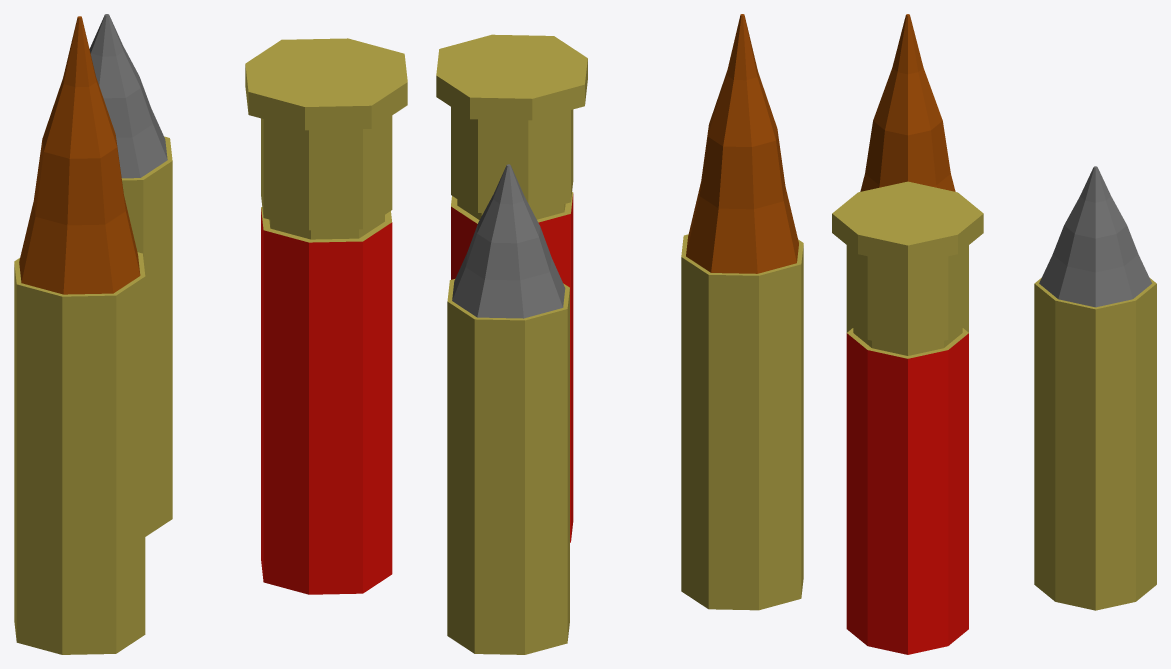
File: ammo.pickUp.fbx
The picture shows the model from 3 angles, left to right: view 1: azimuth 30°, elevation 25°; view 2: azimuth 150°, elevation 25°; view 3: azimuth 270°, elevation 25°; orthographic projection. The views are drawn at different scales.
Parts seen in each view (by area): view 1: Cube.002, Cube.001, Cube; view 2: Cube.001, Cube, Cube.002; view 3: Cube.002, Cube, Cube.001.
Part boxes in pixels (bbox=[...]): Cube.002: bbox=[245, 38, 407, 594]; Cube.001: bbox=[14, 16, 145, 654]; Cube: bbox=[89, 14, 172, 536]; Cube.001: bbox=[681, 14, 803, 610]; Cube: bbox=[447, 164, 569, 654]; Cube.002: bbox=[436, 34, 587, 542]; Cube.002: bbox=[832, 181, 983, 654]; Cube: bbox=[1034, 166, 1156, 610]; Cube.001: bbox=[846, 14, 968, 332].
Size of the model in its own units: 80.28 by 69.2 by 121.
